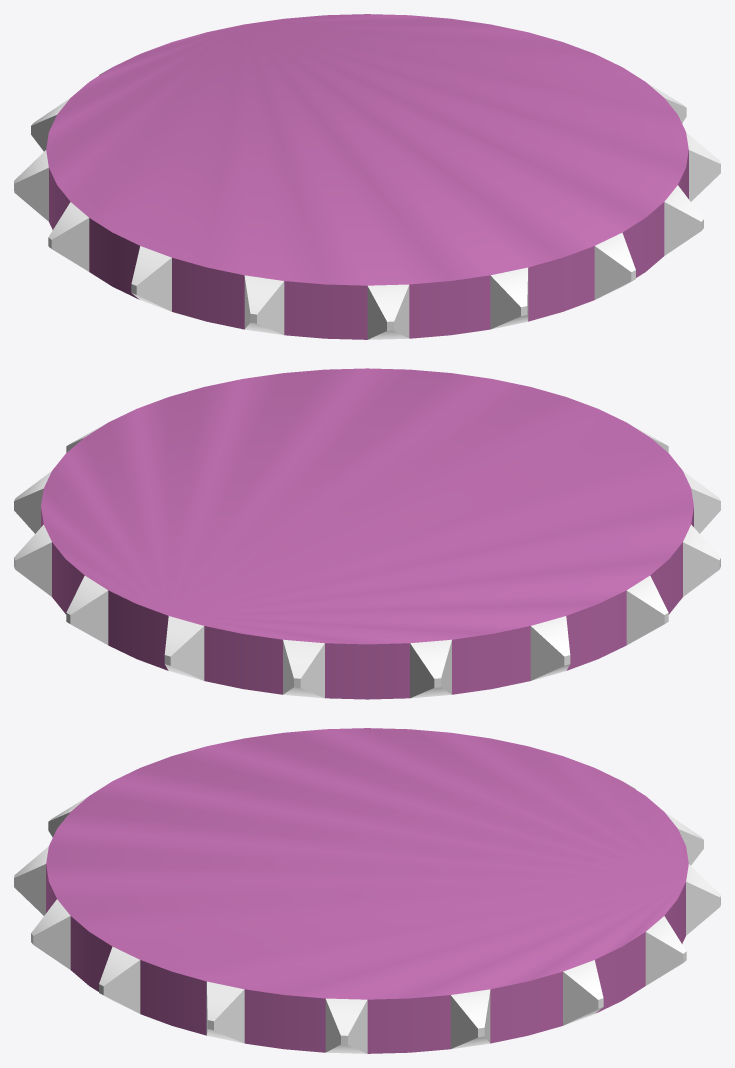
File: SpikyCollar_2.fbx
3 renders of one model, top to bottom at view 1: azimuth 30°, elevation 25°; view 2: azimuth 150°, elevation 25°; view 3: azimuth 270°, elevation 25°, orthographic.
Visible parts, largest first — view 1: SpikyCollar_2; view 2: SpikyCollar_2; view 3: SpikyCollar_2.
Part boxes in pixels (x1=…): SpikyCollar_2: x1=14, y1=14, x2=720, y2=339; SpikyCollar_2: x1=14, y1=368, x2=720, y2=699; SpikyCollar_2: x1=14, y1=728, x2=720, y2=1053.
Size of the model in its own units: 71.07 by 6.02 by 71.07.
1 material, 1 textured.
